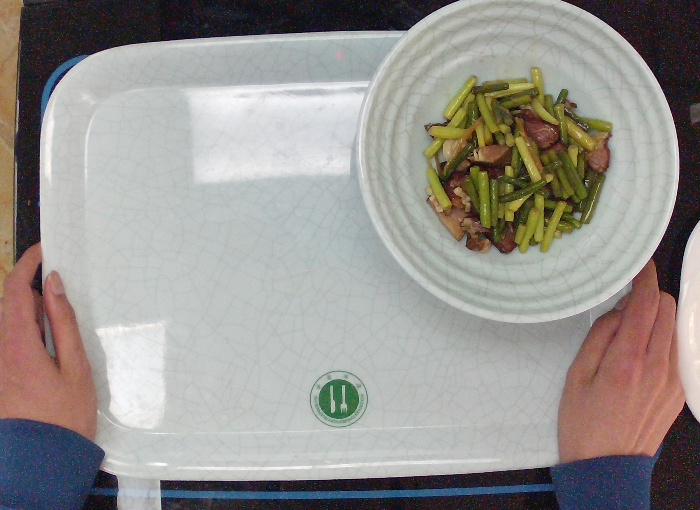JYsf-Da_Tang_Wan: (353, 1, 680, 328)
